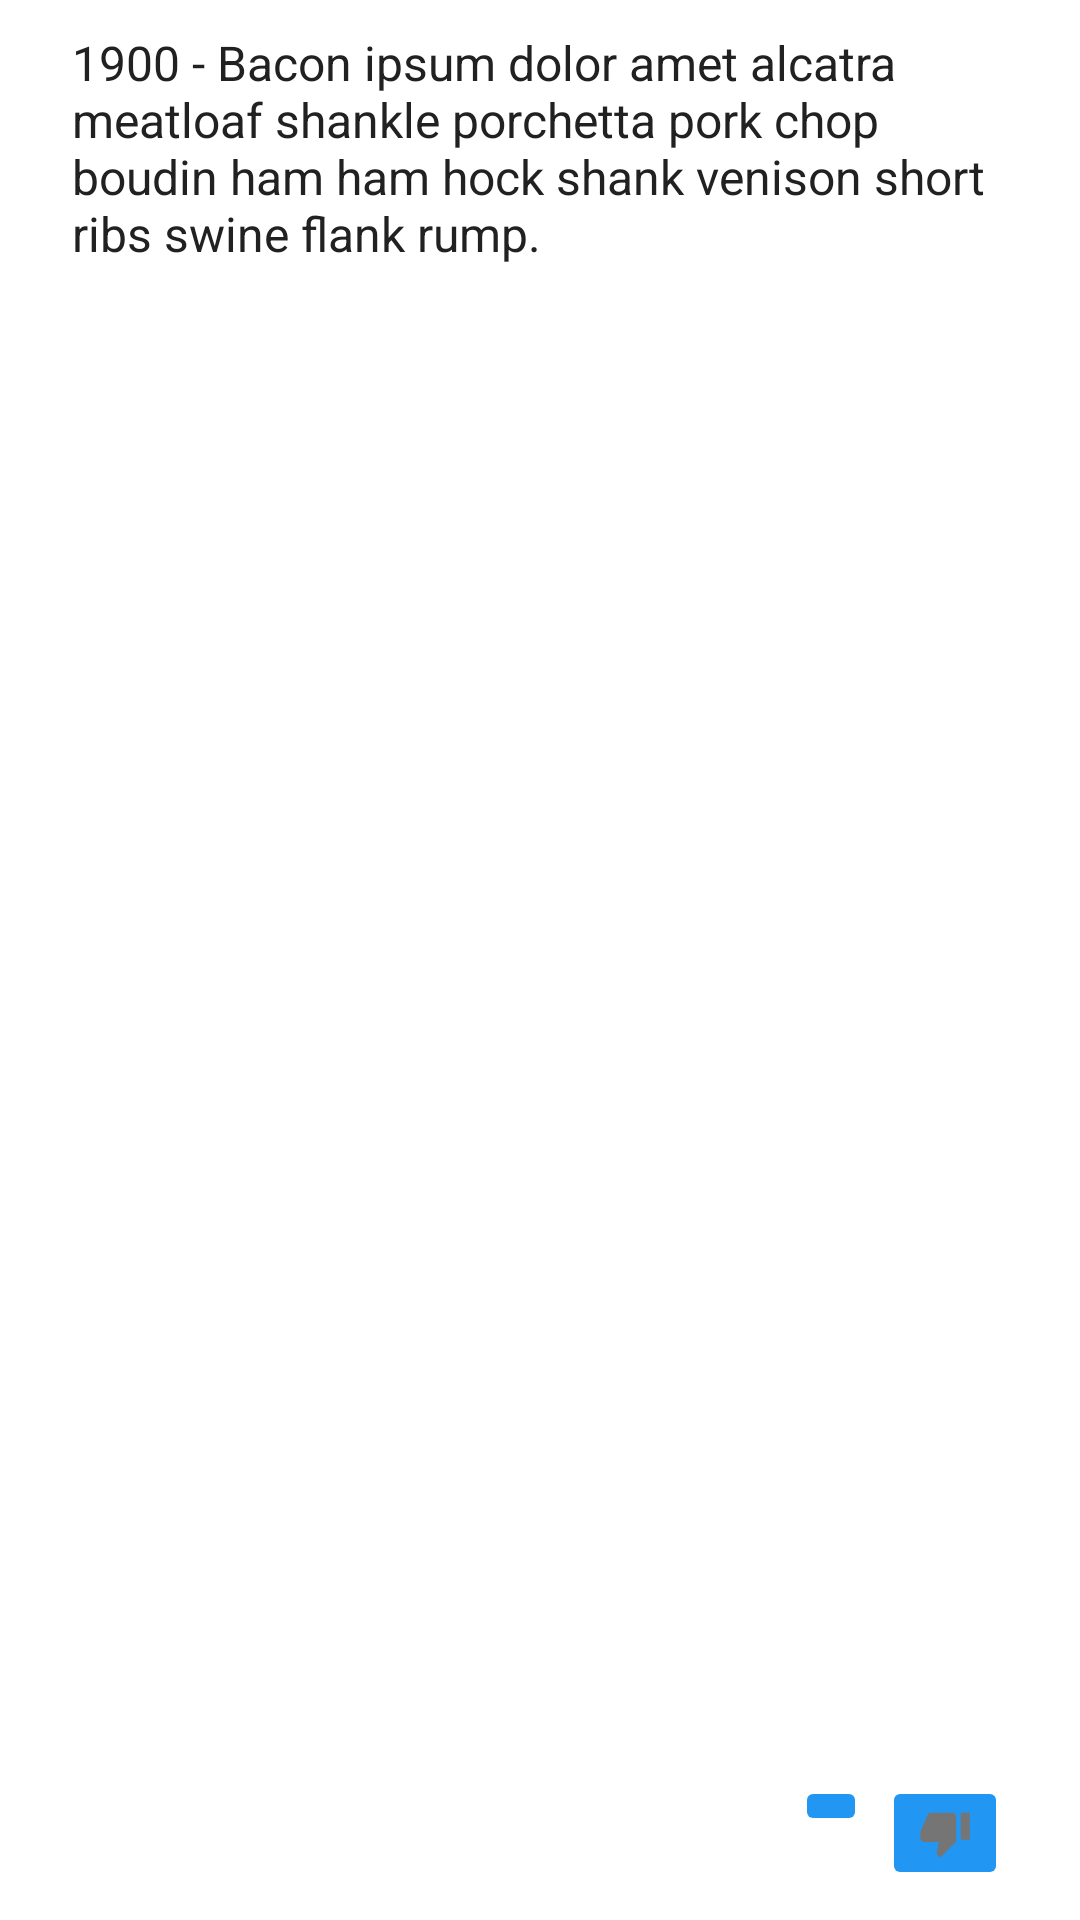

Icons on this 1080 x 1920 Android screen, each with the point to tap as [x,y]:
thumb down: [945,1833]
